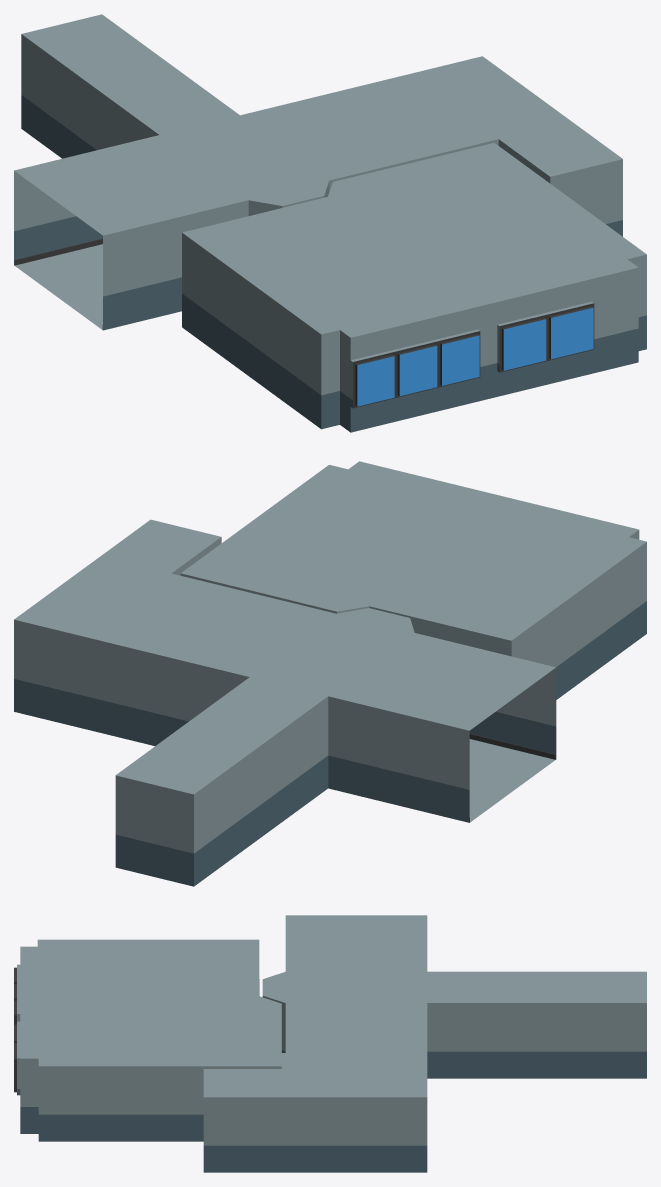
Rendered from Hospital.fbx.
3 views of the same model, one above another, from view 1: azimuth 30°, elevation 25°; view 2: azimuth 150°, elevation 25°; view 3: azimuth 270°, elevation 25° (orthographic). The views are drawn at different scales.
Visible parts, largest first — view 1: Hospital; view 2: Hospital; view 3: Hospital.
Boxes of the visible parts, x1=… form: Hospital: x1=14, y1=14, x2=646, y2=432; Hospital: x1=14, y1=461, x2=646, y2=886; Hospital: x1=14, y1=915, x2=646, y2=1172.
Bounding box in the file's own units: 2069 × 400 × 3041.
